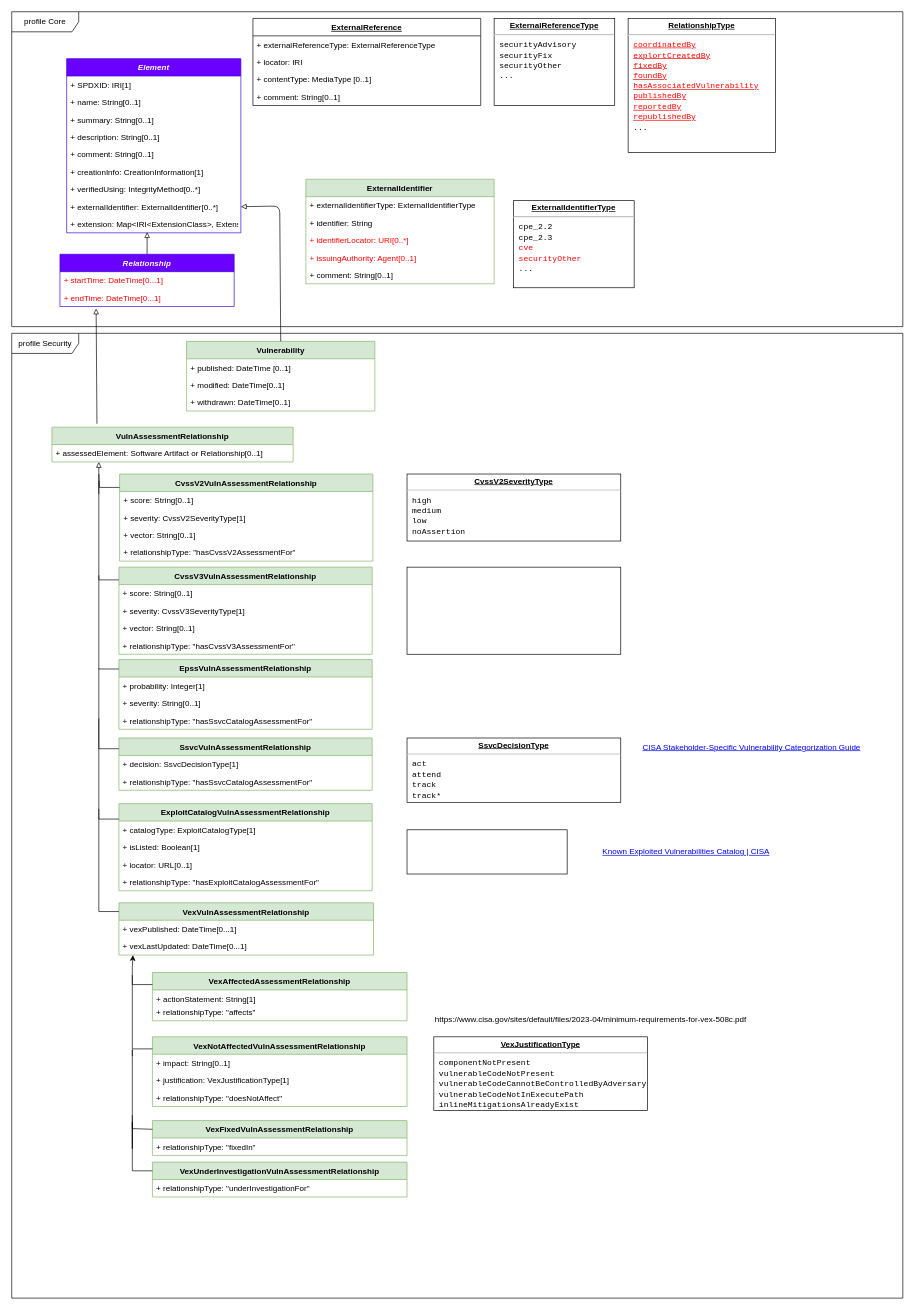
This 915x1310 diagram has some shape labels left out. Here are the shapes that lost their labels. From the top down, the centre of each, then its label:
point (513, 610): CvssV3SeverityType critical high medium low none noAssertion
point (486, 851): ExploitCatalog Type kev other
